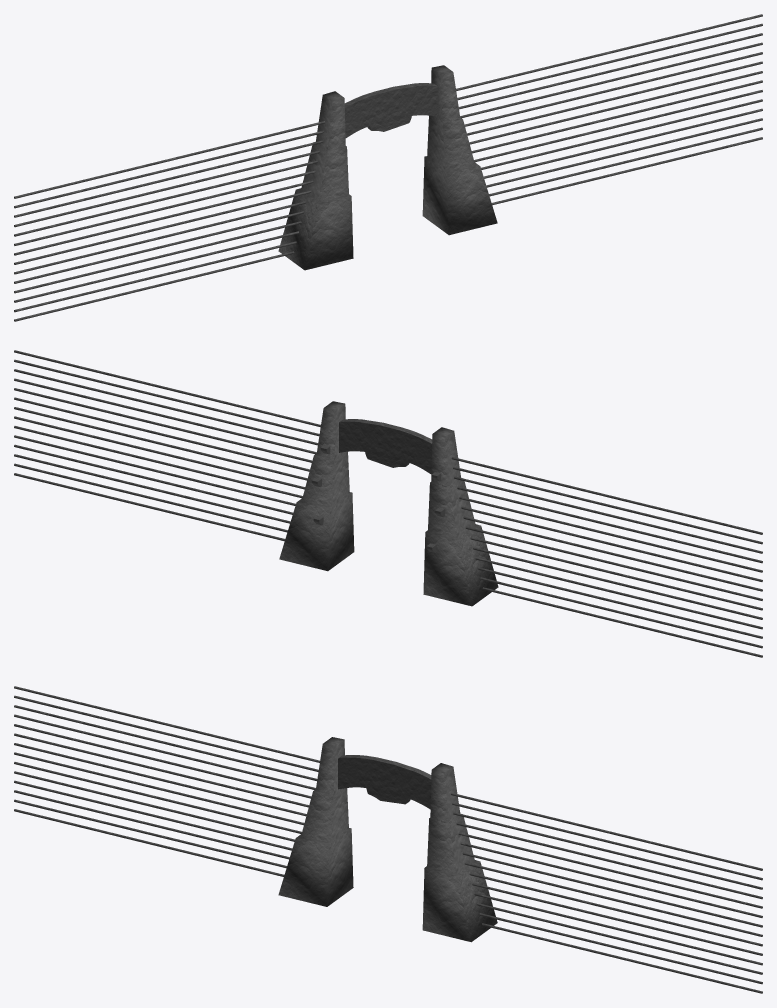
Rendered from Marco.obj.
The picture shows the model from 3 angles, top to bottom: view 1: azimuth 30°, elevation 25°; view 2: azimuth 150°, elevation 25°; view 3: azimuth 330°, elevation 25°; orthographic projection.
Parts seen in each view (by area): view 1: Fence_Cables, Gate_Side, Sign_base; view 2: Fence_Cables, Gate_Side, Sign_base; view 3: Fence_Cables, Gate_Side, Sign_base.
Boxes of the visible parts, x1,y1,x2,y2 form: Fence_Cables: (14,14,762,321); Gate_Side: (278,65,497,270); Sign_base: (344,83,437,137); Fence_Cables: (14,350,762,657); Gate_Side: (279,401,498,606); Sign_base: (339,419,432,473); Fence_Cables: (14,686,762,993); Gate_Side: (278,737,497,942); Sign_base: (338,755,431,809).
Size of the model in its own units: 1941 by 383 by 128.
1 material, 1 textured.
